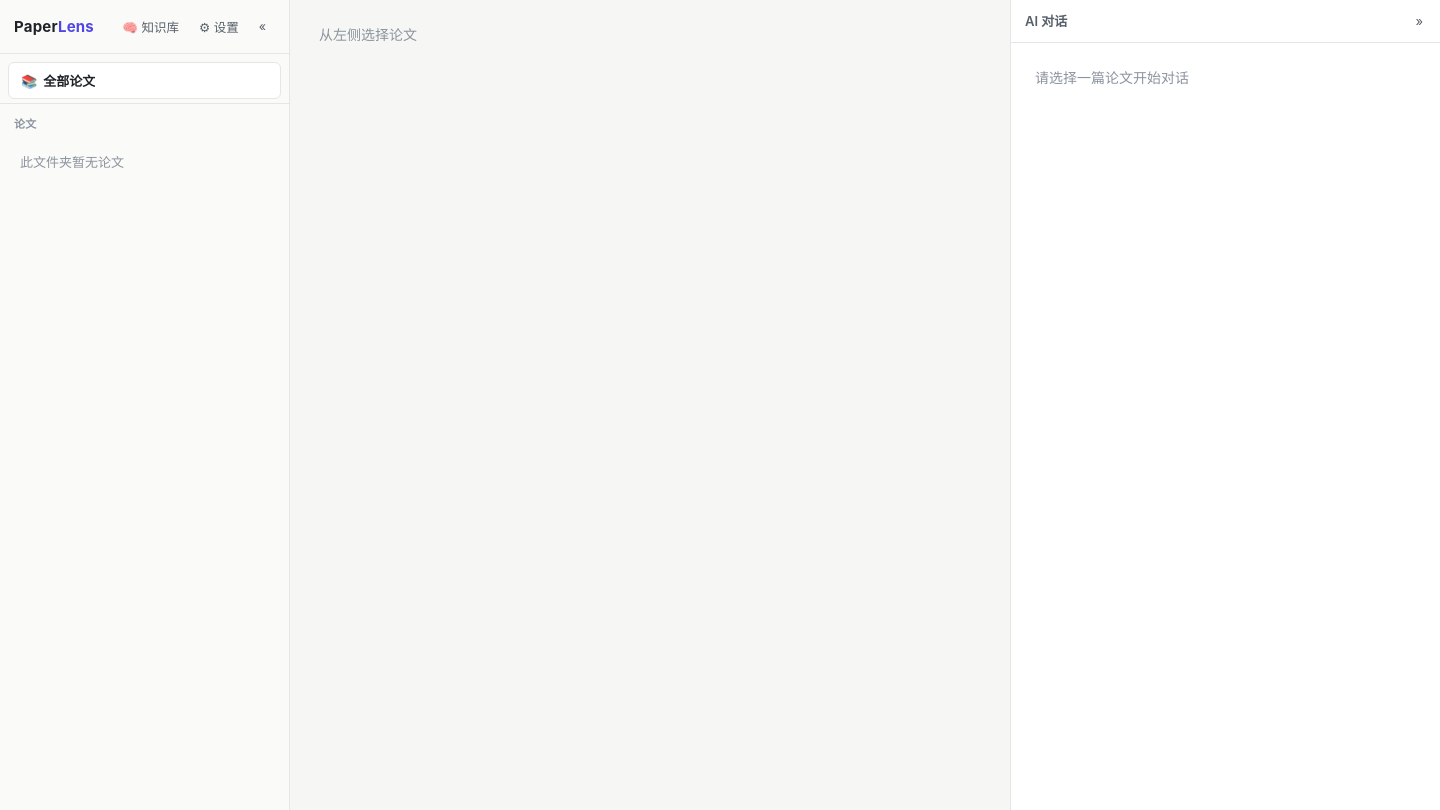
App › opens the knowledge base overlay and closes it with Escape
Click the button "🧠 知识库" at x=151, y=26, box x1=113 y1=12 x2=188 y2=41
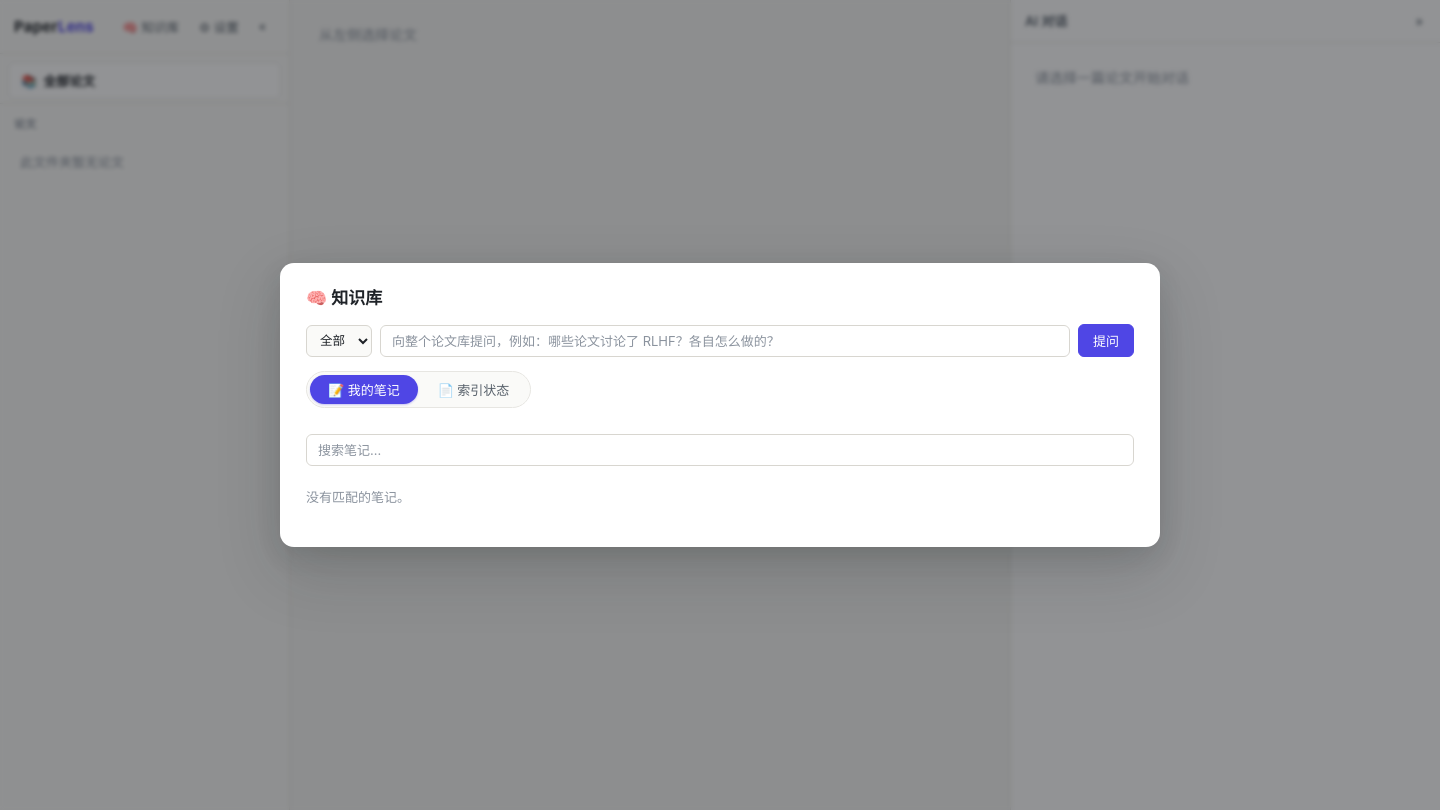
Result: the dialog "🧠 知识库 提问 📝 我的笔记 📄 索引状态 没有匹配的笔记。" is shown at x1=280 y1=263 x2=1160 y2=547
Press Escape
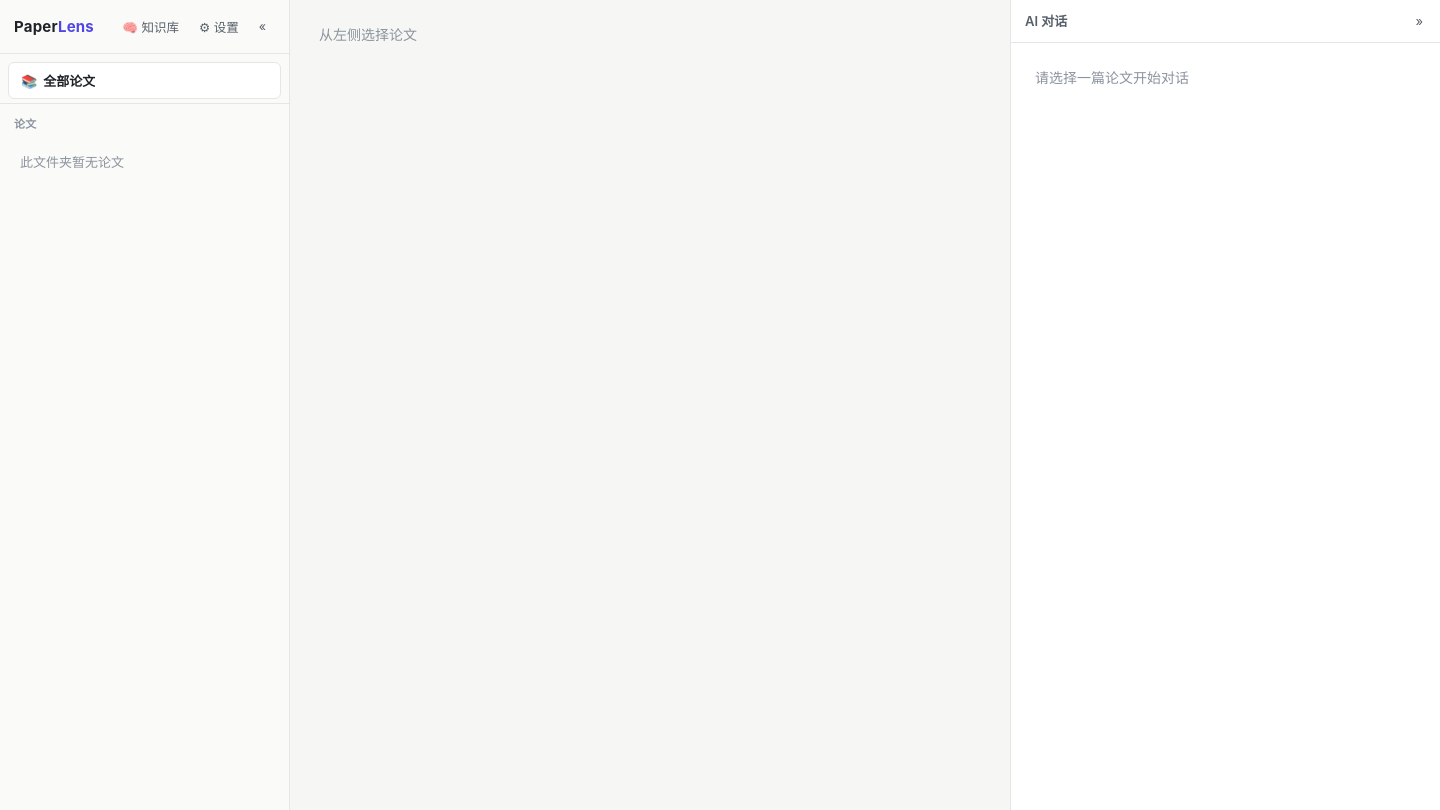
Result: the dialog is gone
